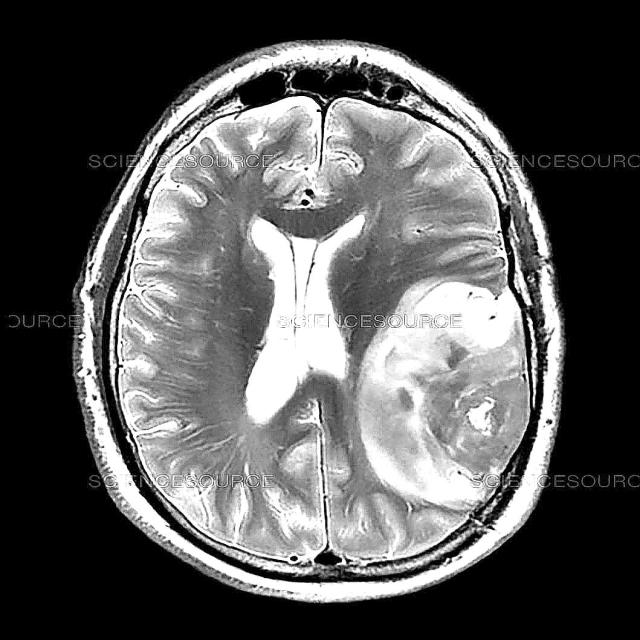Tumor-Cell: (378, 288, 508, 494)
